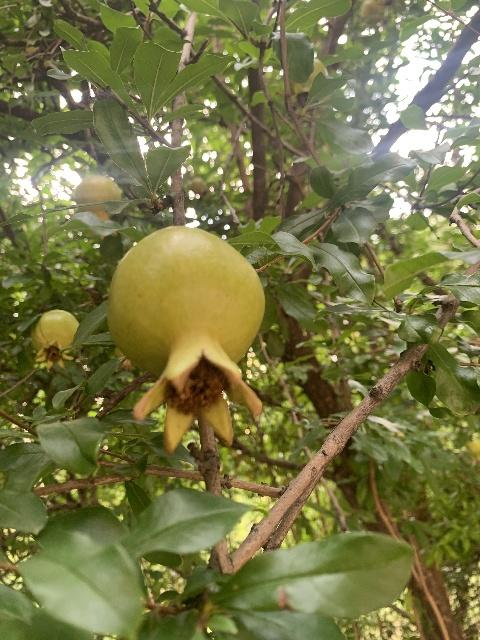mid-growth: (103, 226, 267, 451), (71, 174, 122, 240), (30, 309, 78, 371)
